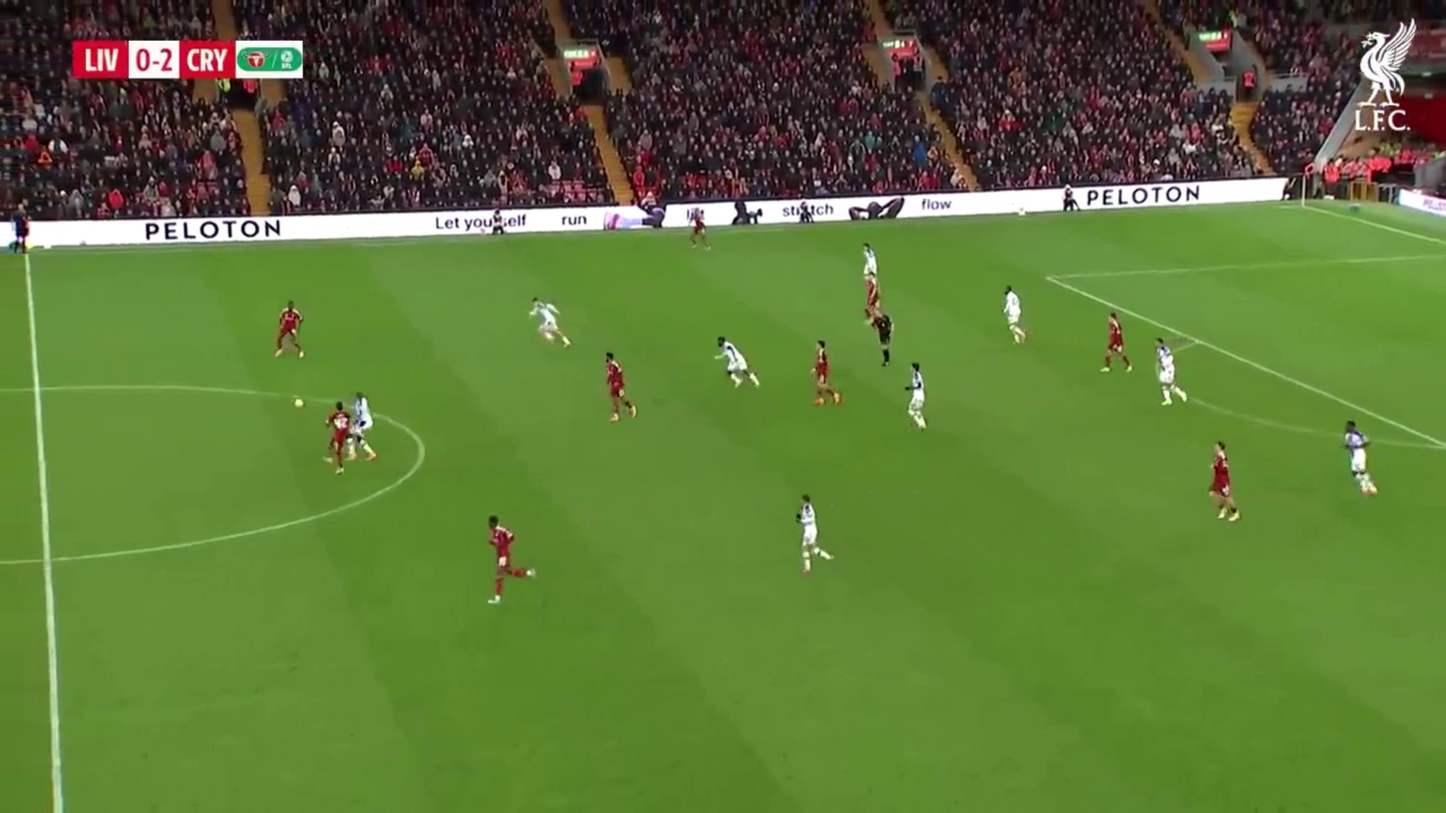player: (488, 514, 535, 607), (325, 398, 378, 469), (337, 393, 379, 467), (797, 494, 832, 573), (1208, 441, 1241, 523), (1343, 423, 1379, 498), (715, 335, 758, 390), (603, 352, 636, 423), (325, 401, 359, 469), (811, 338, 844, 407), (273, 300, 307, 361), (863, 295, 892, 366), (1154, 334, 1182, 407), (797, 493, 821, 572), (349, 393, 376, 463), (1101, 314, 1131, 375), (905, 362, 928, 431), (1002, 285, 1027, 345), (812, 336, 834, 401), (871, 310, 892, 367)
